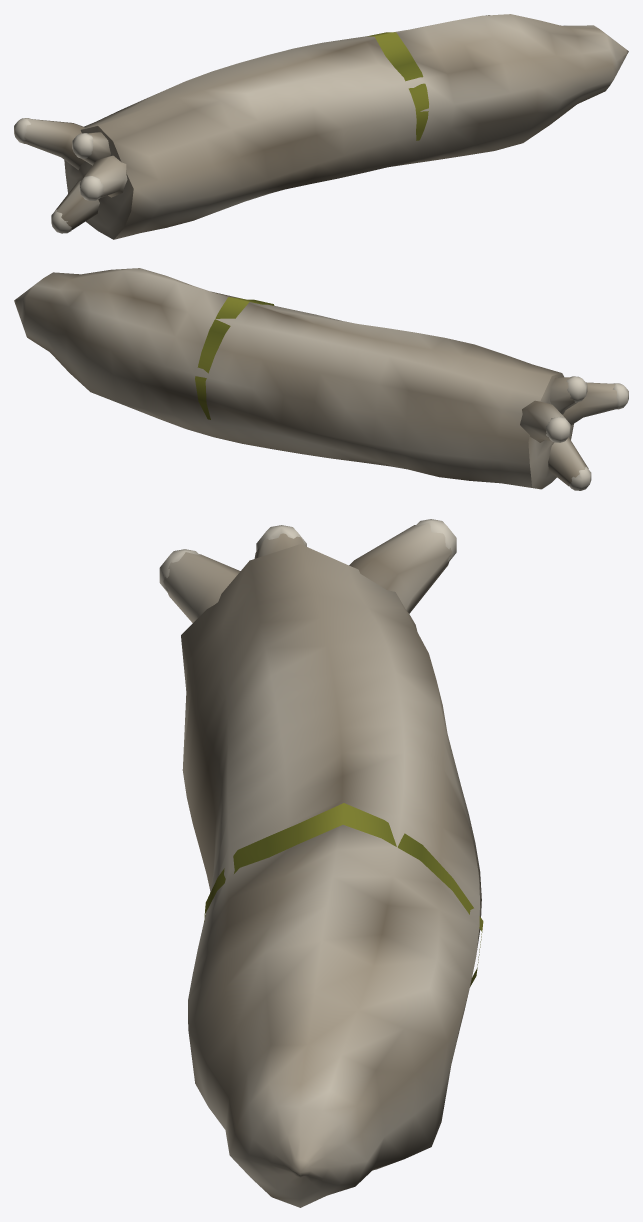
File: log_beach.glb
The picture shows the model from 3 angles, top to bottom: view 1: azimuth 30°, elevation 25°; view 2: azimuth 150°, elevation 25°; view 3: azimuth 270°, elevation 25°; orthographic projection. The views are drawn at different scales.
Visible parts, largest first — view 1: log_beach; view 2: log_beach; view 3: log_beach.
Part boxes in pixels (bbox=[...]): log_beach: bbox=[14, 14, 628, 239]; log_beach: bbox=[14, 268, 628, 490]; log_beach: bbox=[159, 519, 483, 1207].
Bounding box in the file's own units: 3.82 × 0.8 × 0.9223.
